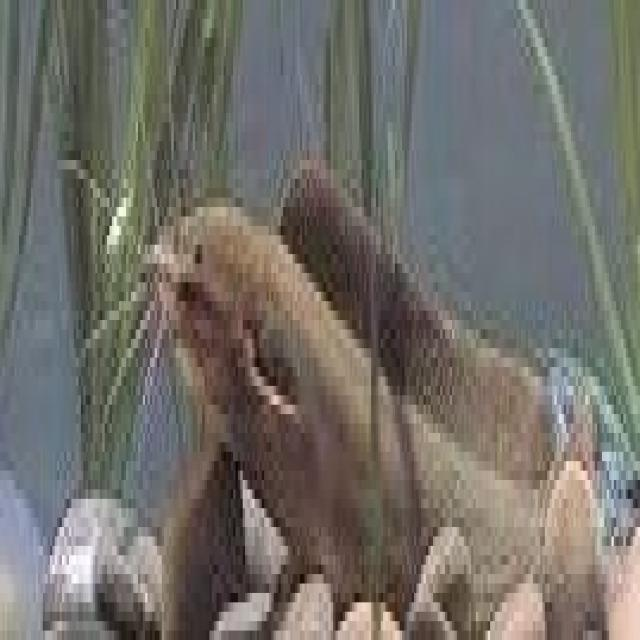Catfish: (54, 0, 625, 640)
